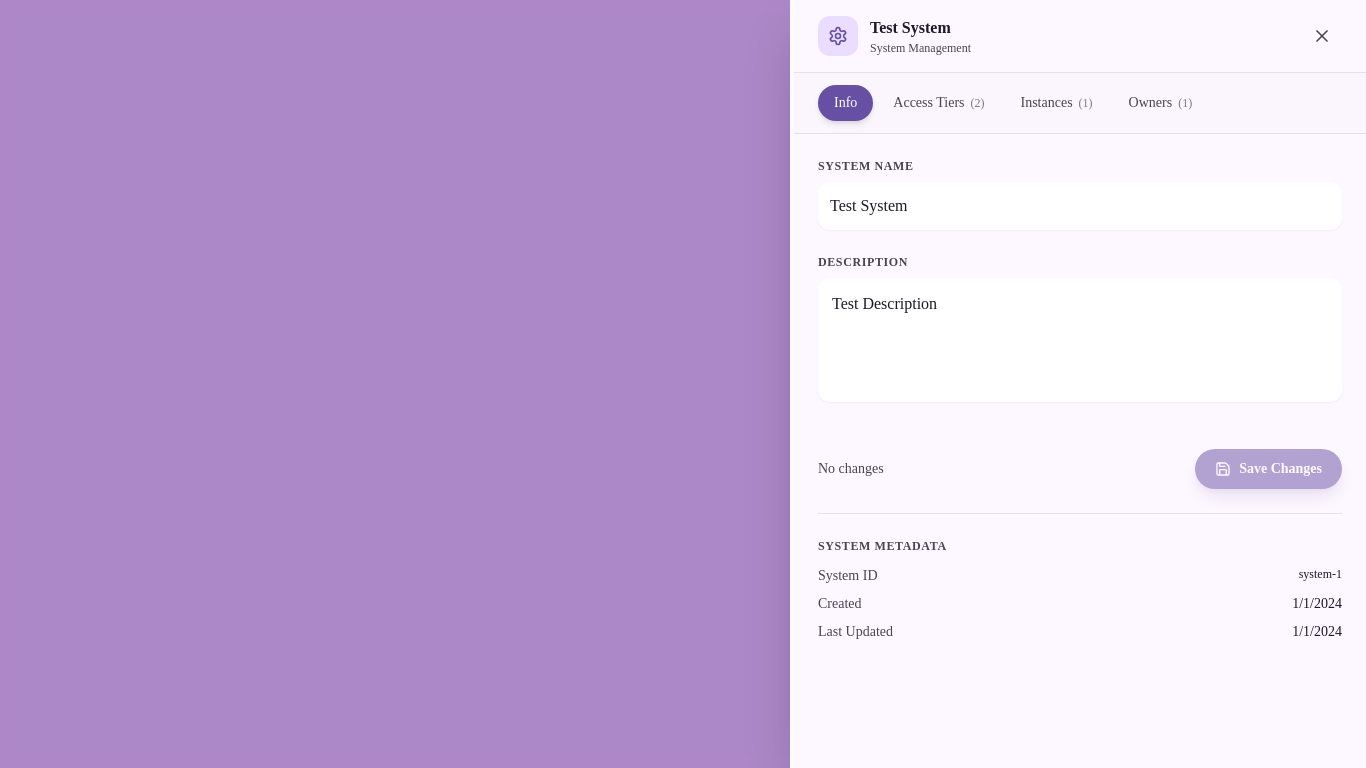
Test: SystemDrawer › switches tabs when clicked
Note: Click on Access Tiers tab
Click the button "Access Tiers(2)" at [939, 103], box [877, 85, 1000, 121]
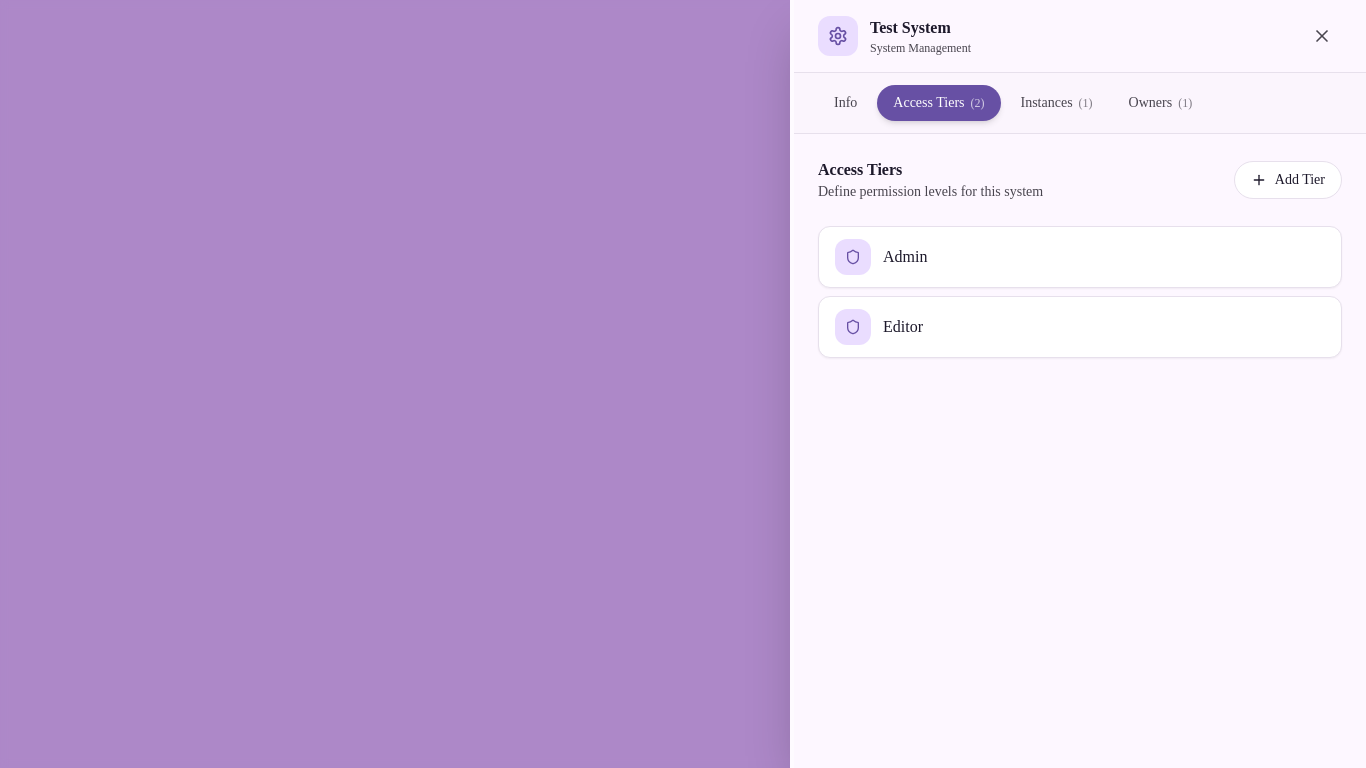
Expected: the text "Define permission levels for this system" is shown, [818, 182, 1043, 202]
